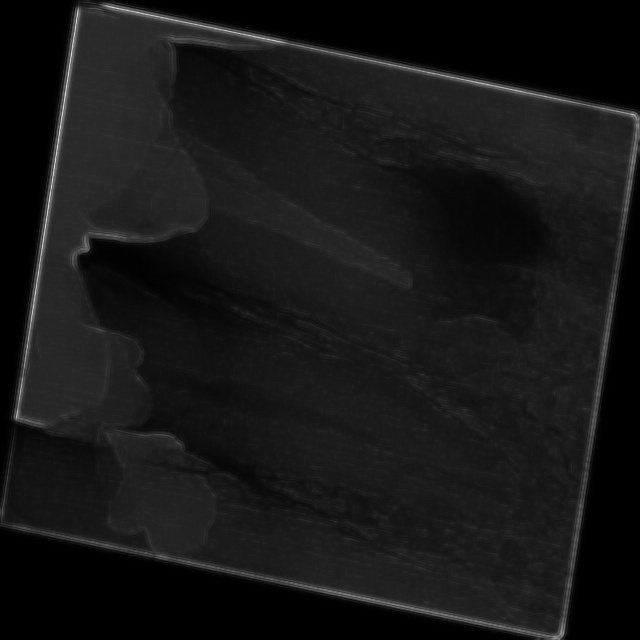Class 1- complete endodontic treatment: (32, 0, 594, 414)
